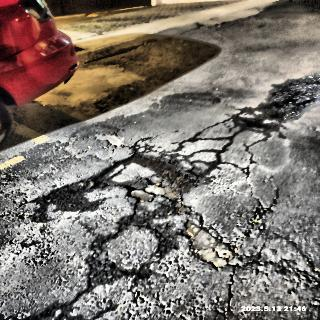alligator-crack: (18, 119, 320, 320)
pothole: (179, 218, 246, 272)
